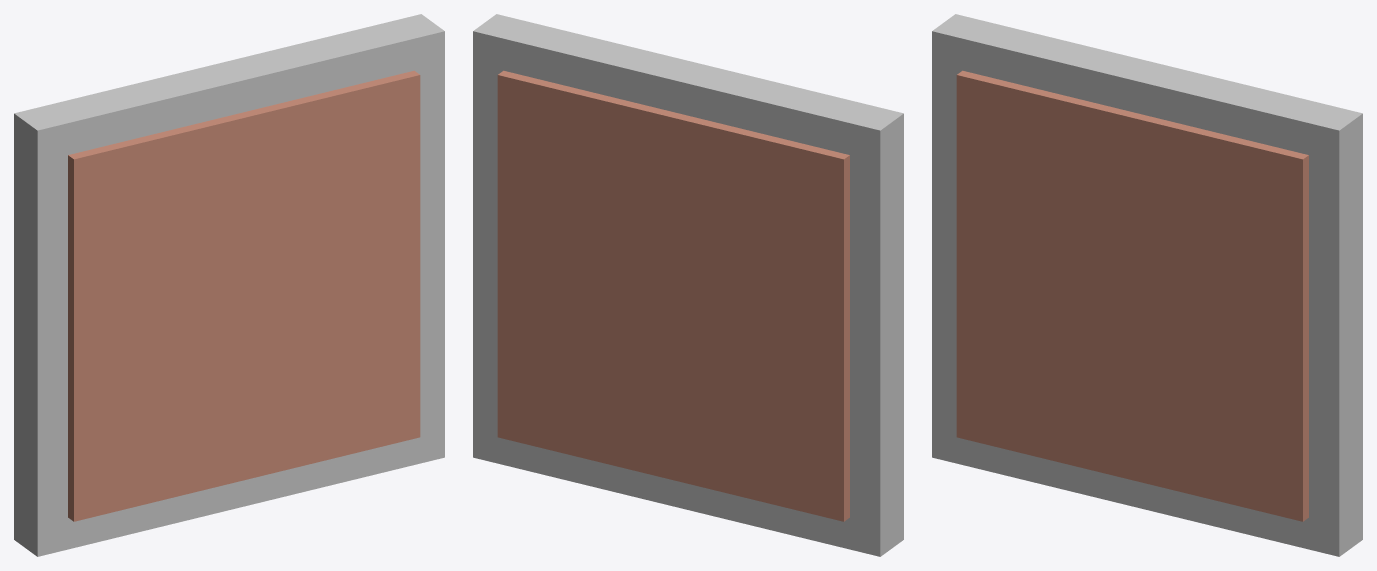
File: Tile.fbx
3 views of the same model, side by side, from view 1: azimuth 30°, elevation 25°; view 2: azimuth 150°, elevation 25°; view 3: azimuth 330°, elevation 25° (orthographic).
Parts seen in each view (by area): view 1: Tile; view 2: Tile; view 3: Tile.
Boxes of the visible parts, x1,y1,x2,y2 form: Tile: (14, 14, 444, 556); Tile: (473, 14, 903, 556); Tile: (932, 14, 1362, 556).
Size of the model in its own units: 1 by 1 by 0.15.
